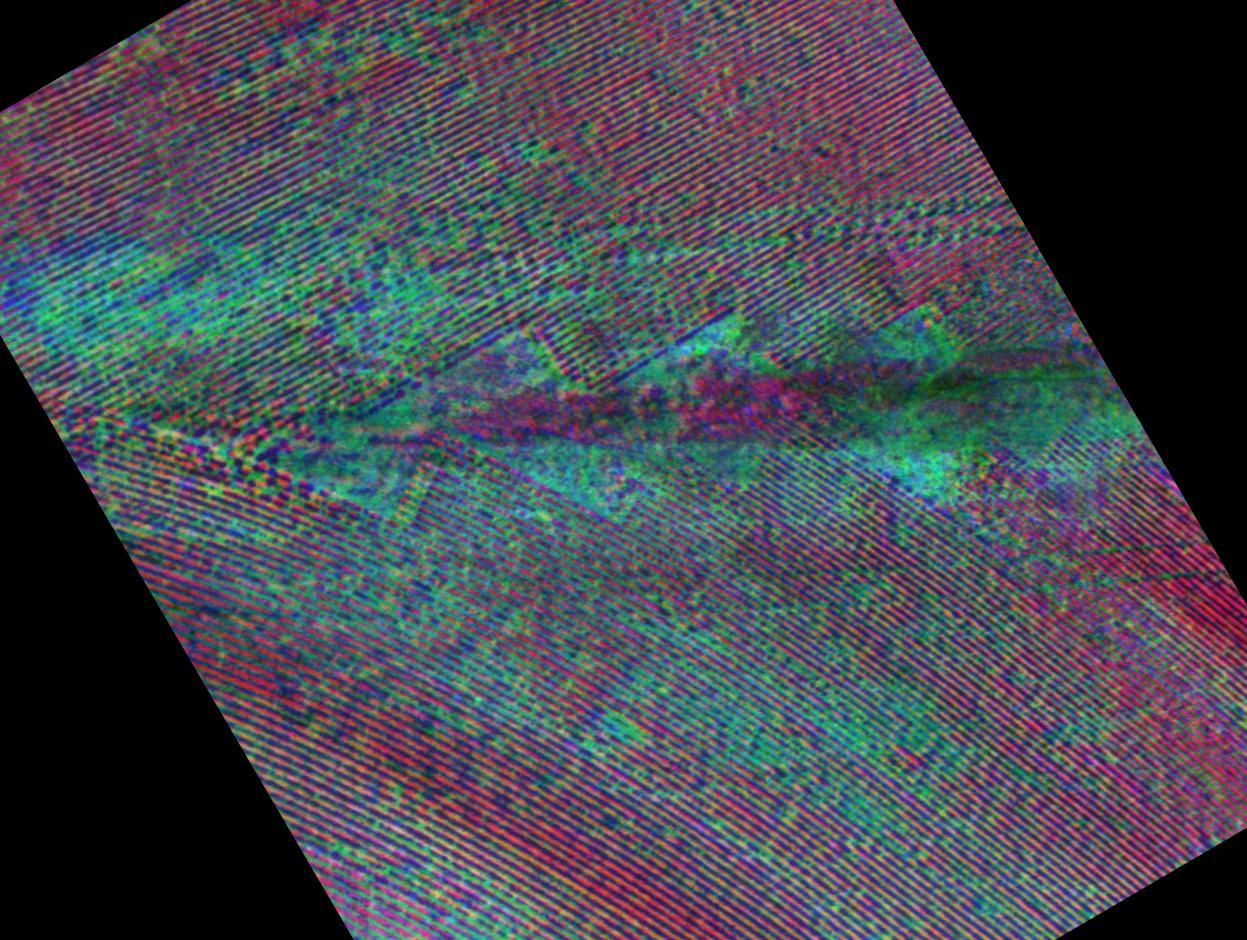dc: (41, 260, 129, 364), (798, 685, 882, 774), (881, 418, 954, 498), (538, 448, 615, 510), (238, 243, 301, 311)
